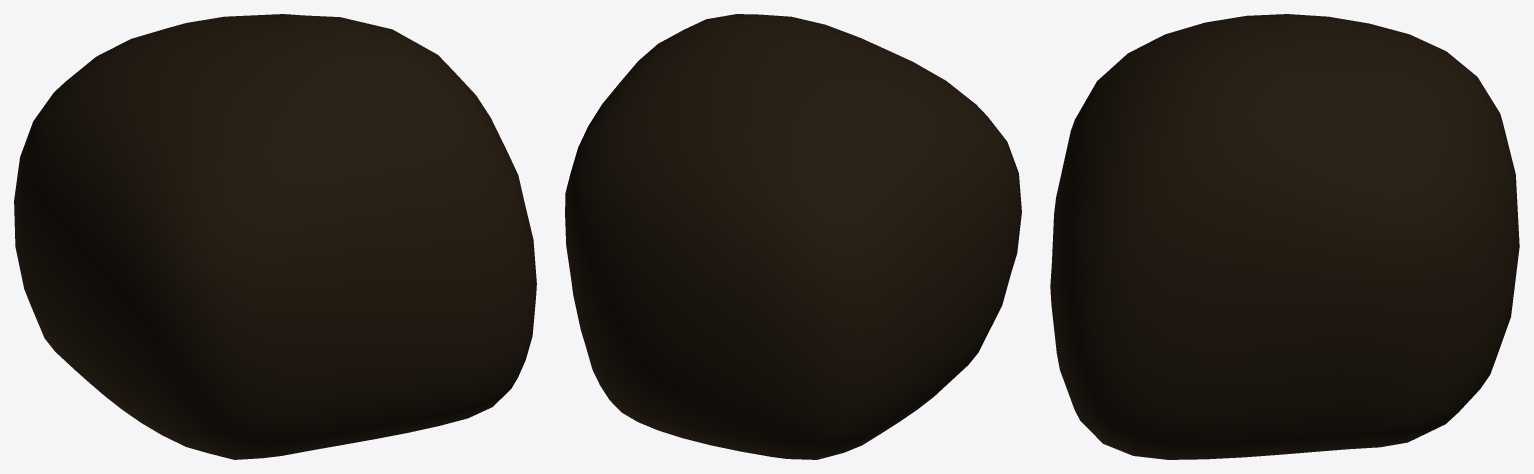
Rendered from truffle.fbx.
3 views of the same model, side by side, from view 1: azimuth 30°, elevation 25°; view 2: azimuth 150°, elevation 25°; view 3: azimuth 270°, elevation 25° (orthographic). The views are drawn at different scales.
Parts seen in each view (by area): view 1: Truffle; view 2: Truffle; view 3: Truffle.
Part boxes in pixels (left/top/right/bottom): Truffle: left=14, top=14, right=536, bottom=459; Truffle: left=565, top=14, right=1021, bottom=459; Truffle: left=1050, top=14, right=1519, bottom=459.
Size of the model in its own units: 8.67 by 7.71 by 9.06.
